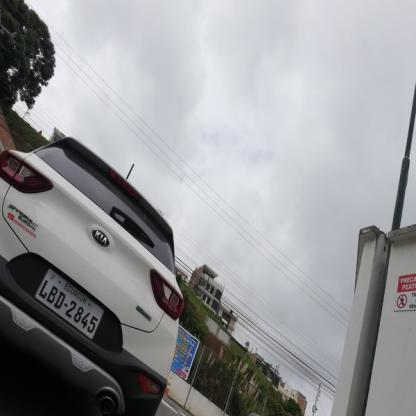Placa: (33, 263, 105, 349)
